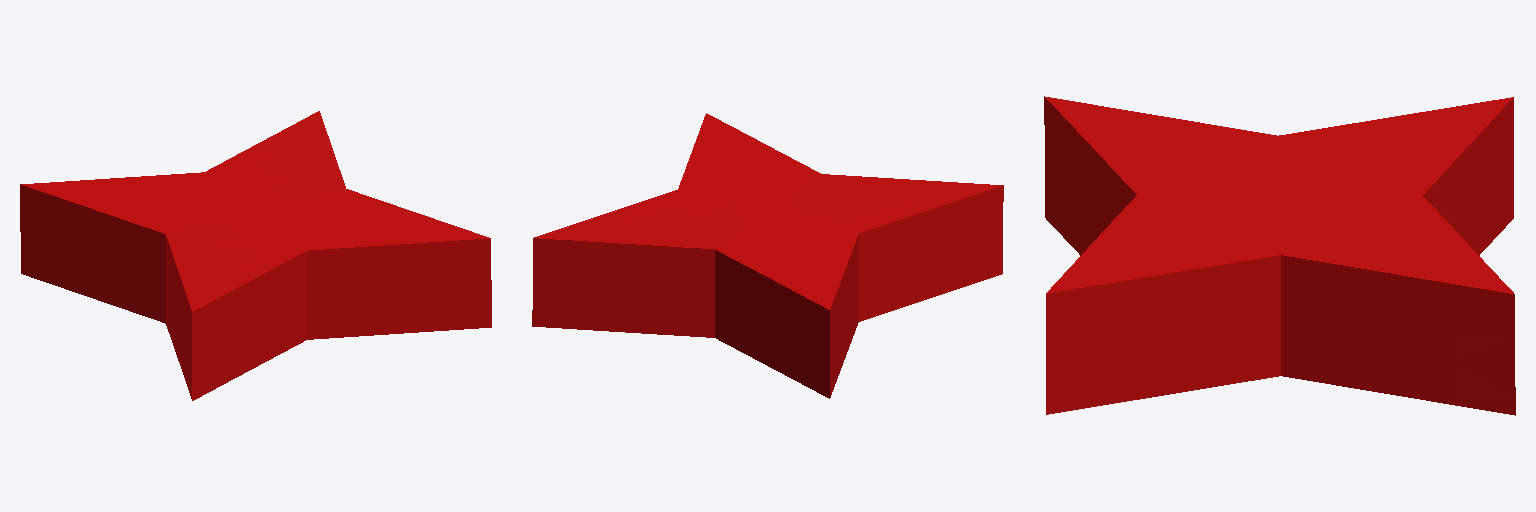
robot.urdf — shuriken_block:
<?xml version="1.0"?>
<robot name="shuriken_block">
  <link name="block">
    <visual>
      <geometry>
        <mesh filename="./config/assets/shuriken.dae"/>
      </geometry>
    </visual>

    <collision>
      <geometry>
        <mesh filename="./config/assets/shuriken.dae"/>
      </geometry>
    </collision>
  </link>

</robot>

--- Render facts (derived) ---
Views: 3 orthographic renders of the robot side by side, from view 1: azimuth 30°, elevation 25°; view 2: azimuth 150°, elevation 25°; view 3: azimuth 270°, elevation 25°.
Model shuriken_block with 1 links and 0 joints (none), rooted at block, posed all joints at 0.
Visible links, largest first — view 1: block; view 2: block; view 3: block.
Link boxes in pixels (x1=…): block: x1=20, y1=111, x2=491, y2=400; block: x1=532, y1=113, x2=1003, y2=398; block: x1=1044, y1=96, x2=1515, y2=415.
Bounding box of the posed robot: 0.07 × 0.07 × 0.02 m (x, y, z).
1 mesh visuals loaded from 1 distinct referenced files (1 Collada DAE).